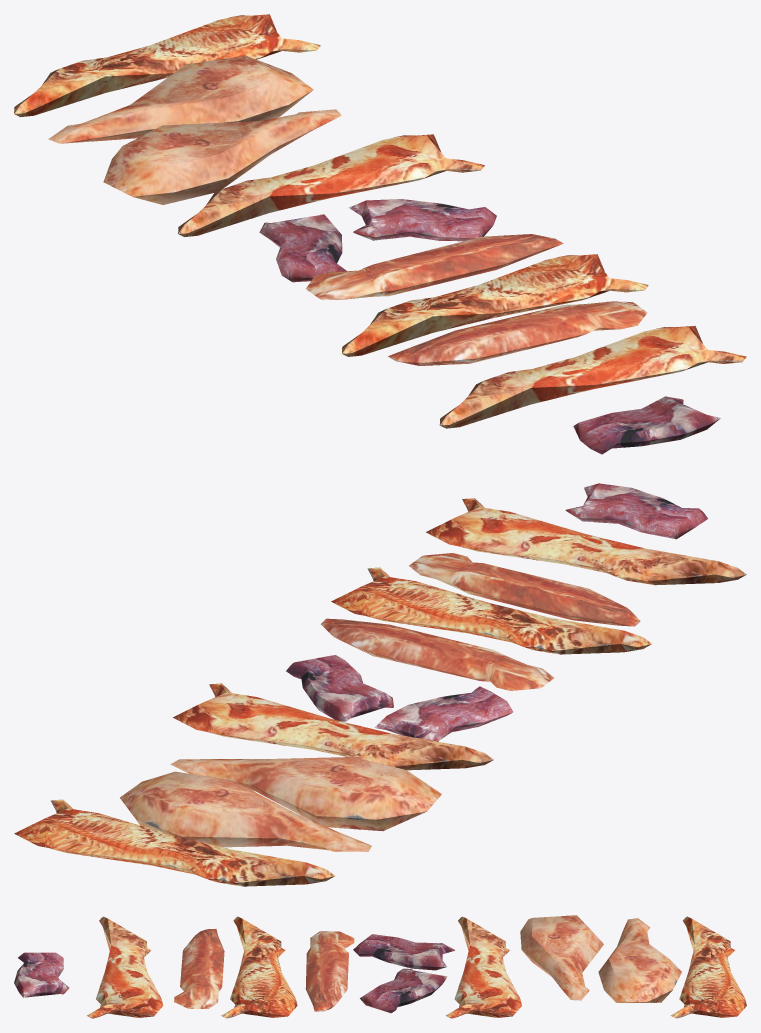
File: meat_booth02_LOD02.fbx
The picture shows the model from 3 angles, top to bottom: view 1: azimuth 30°, elevation 25°; view 2: azimuth 150°, elevation 25°; view 3: azimuth 270°, elevation 25°; orthographic projection. The views are drawn at different scales.
Parts seen in each view (by area): view 1: Mesh Object; view 2: Mesh Object; view 3: Mesh Object.
Part boxes in pixels (x1,y1,x2,y2): Mesh Object: (14, 14, 746, 454); Mesh Object: (14, 483, 746, 886); Mesh Object: (14, 915, 746, 1018).
Bounding box in the file's own units: 0.6189 × 0.0728 × 1.89.
